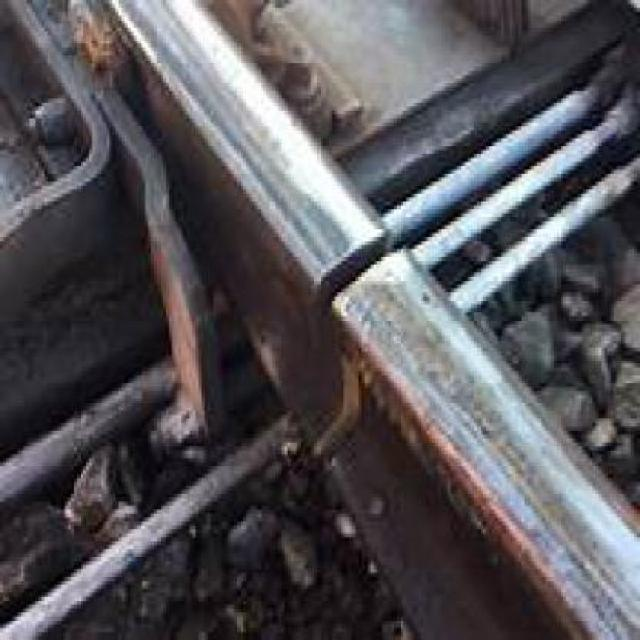defective: (71, 60, 640, 579)
